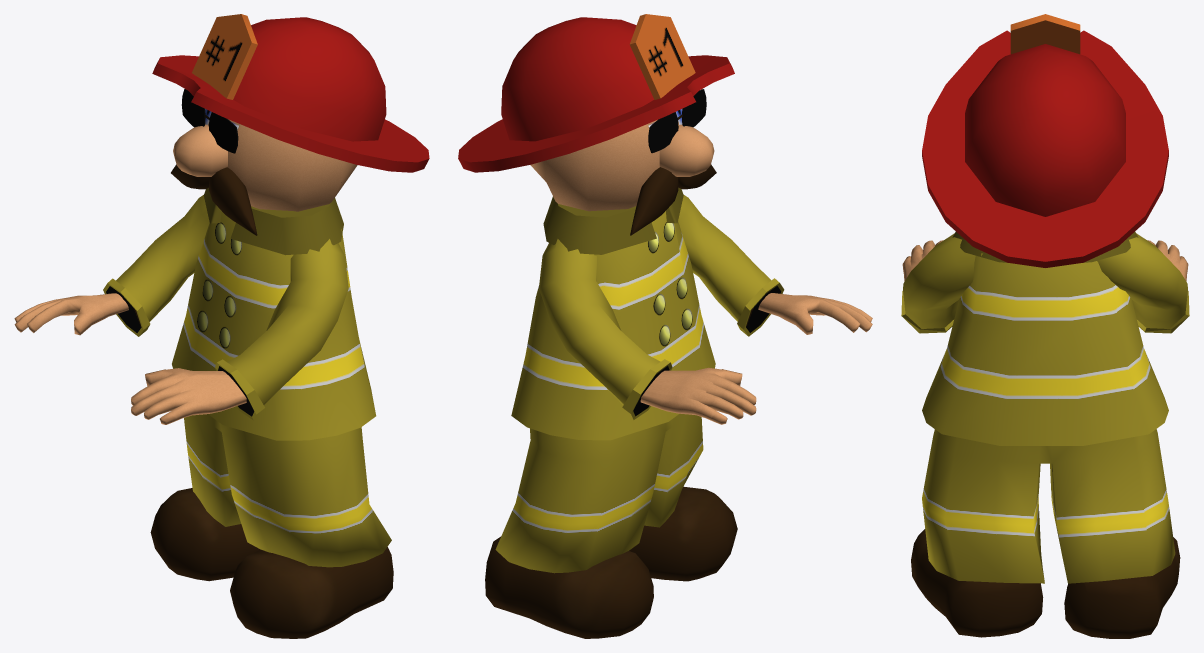
File: FireFighter_pumping03_textured_new.fbx
The picture shows the model from 3 angles, left to right: view 1: azimuth 30°, elevation 25°; view 2: azimuth 150°, elevation 25°; view 3: azimuth 270°, elevation 25°; orthographic projection.
Visible parts, largest first — view 1: polySurface543; view 2: polySurface543; view 3: polySurface543.
Boxes of the visible parts, bbox=[...] form: polySurface543: bbox=[14, 14, 429, 638]; polySurface543: bbox=[458, 14, 872, 638]; polySurface543: bbox=[901, 14, 1189, 638].
Size of the model in its own units: 290 by 469 by 214.
